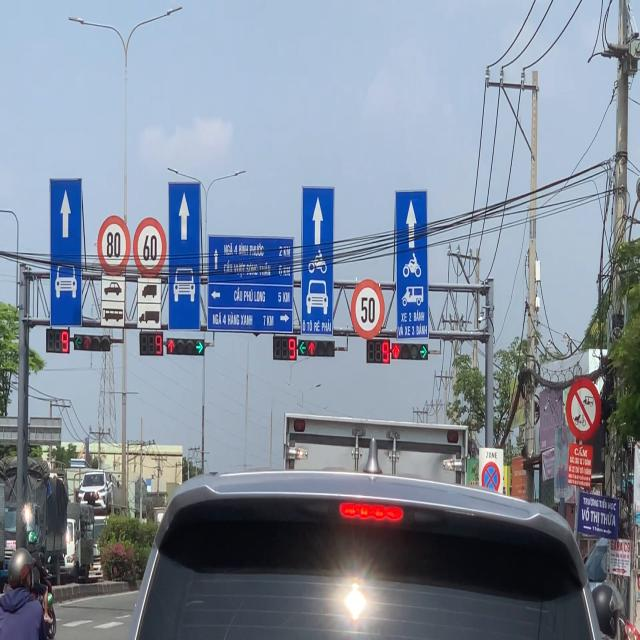Cam dung va do: (481, 460, 501, 498)
Toc do toi da: (350, 278, 385, 340), (97, 214, 130, 277), (134, 214, 166, 277)
